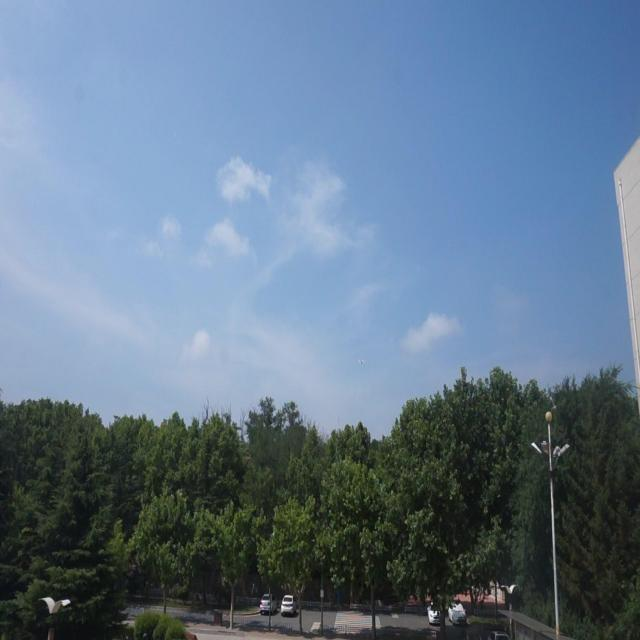UAV: (357, 359, 365, 365)
